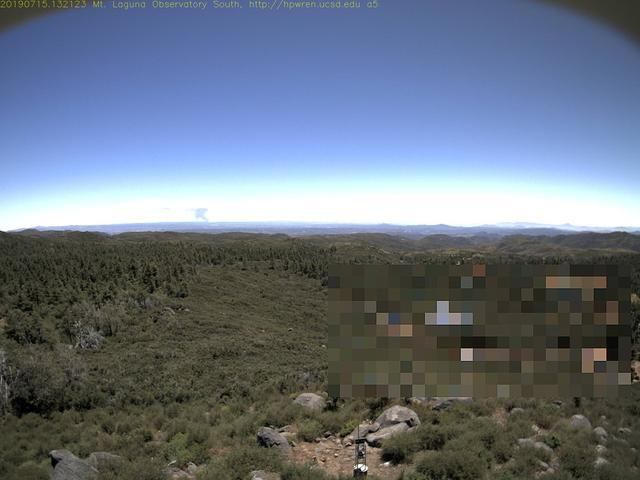smoke: (192, 205, 216, 231)
